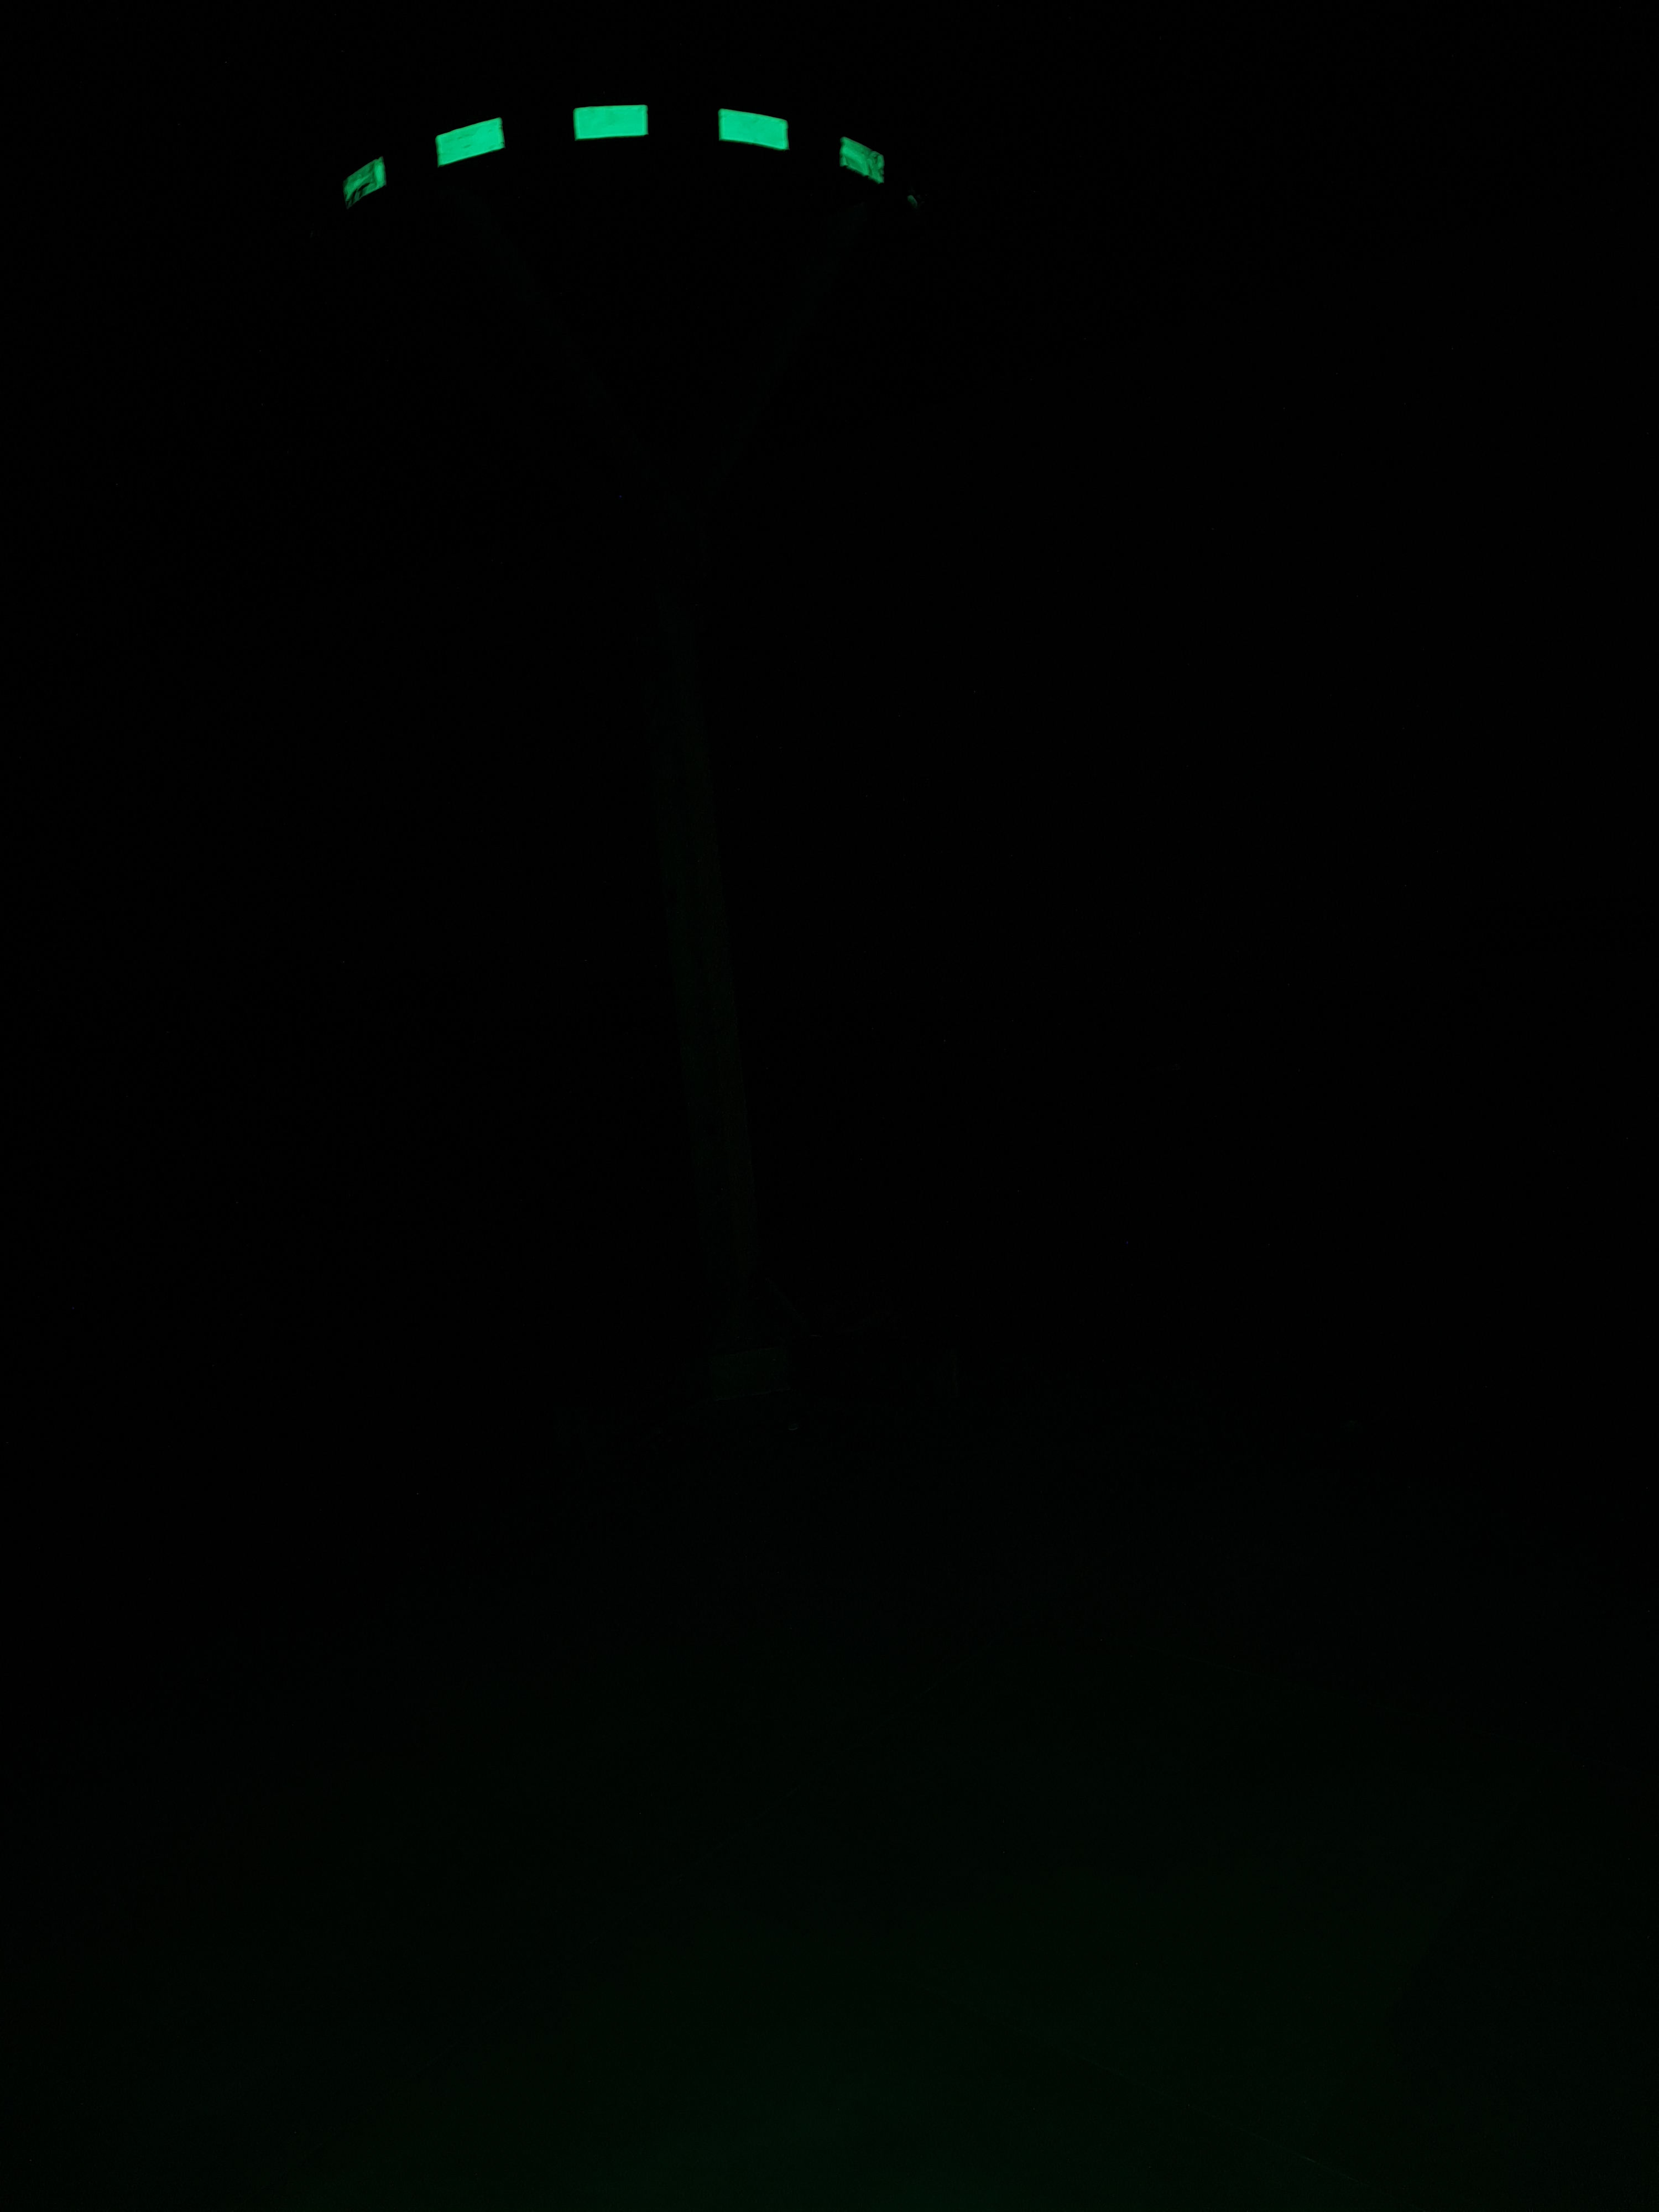hoop: (338, 108, 889, 212)
